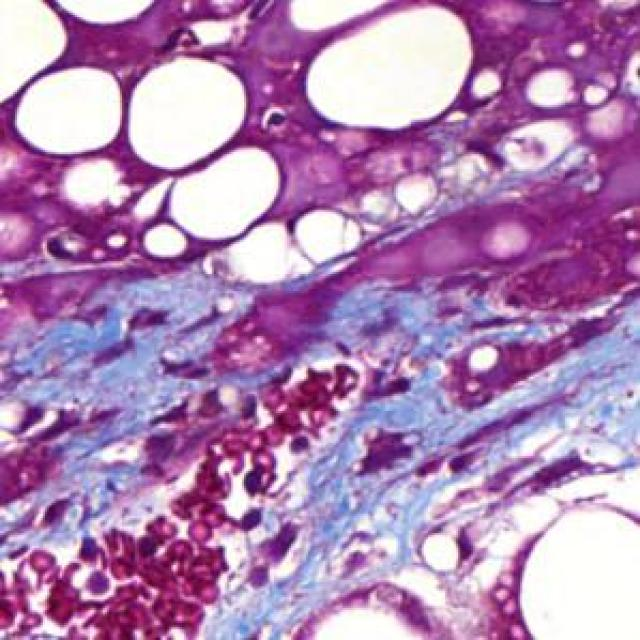steatosis: (133, 60, 246, 175), (26, 62, 118, 176)
